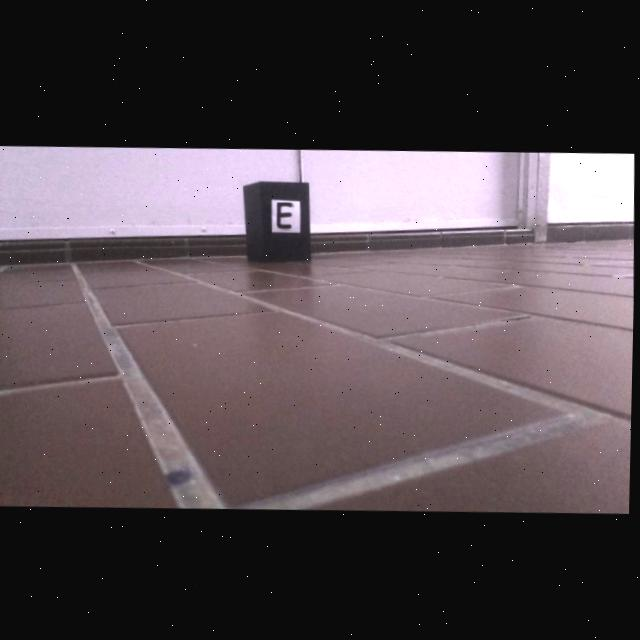E: (278, 200, 293, 227)
